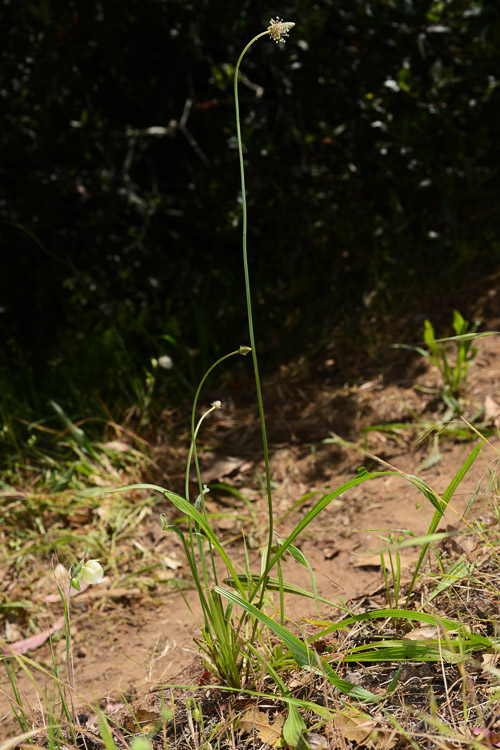buckhorn plantain: (83, 13, 343, 691)
